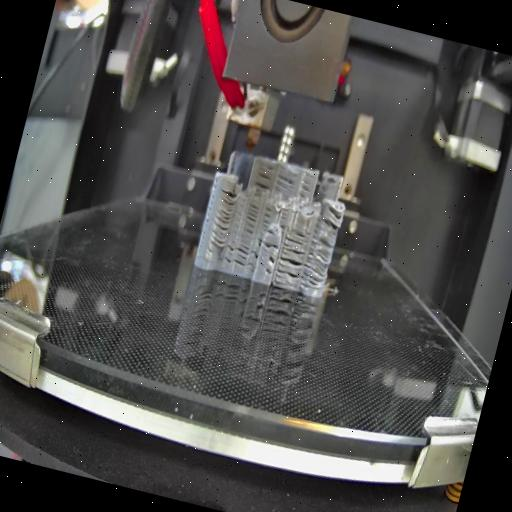cracks: (300, 231, 336, 291), (206, 188, 240, 248), (274, 246, 305, 286), (318, 204, 346, 234), (246, 236, 264, 273), (253, 163, 275, 191), (241, 205, 260, 236), (283, 226, 310, 246), (232, 242, 250, 268), (222, 240, 236, 266), (276, 174, 296, 189), (264, 254, 276, 278), (261, 204, 273, 227), (277, 208, 289, 230), (296, 182, 312, 198), (261, 238, 281, 250), (266, 228, 276, 236)
